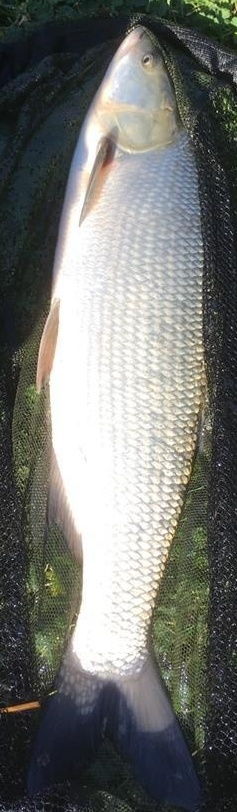Aspius aspius: (20, 20, 217, 805)
